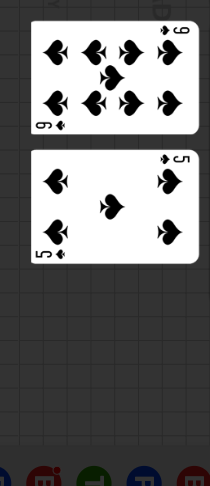5S: (34, 247, 67, 260)
9S: (157, 24, 191, 37)
